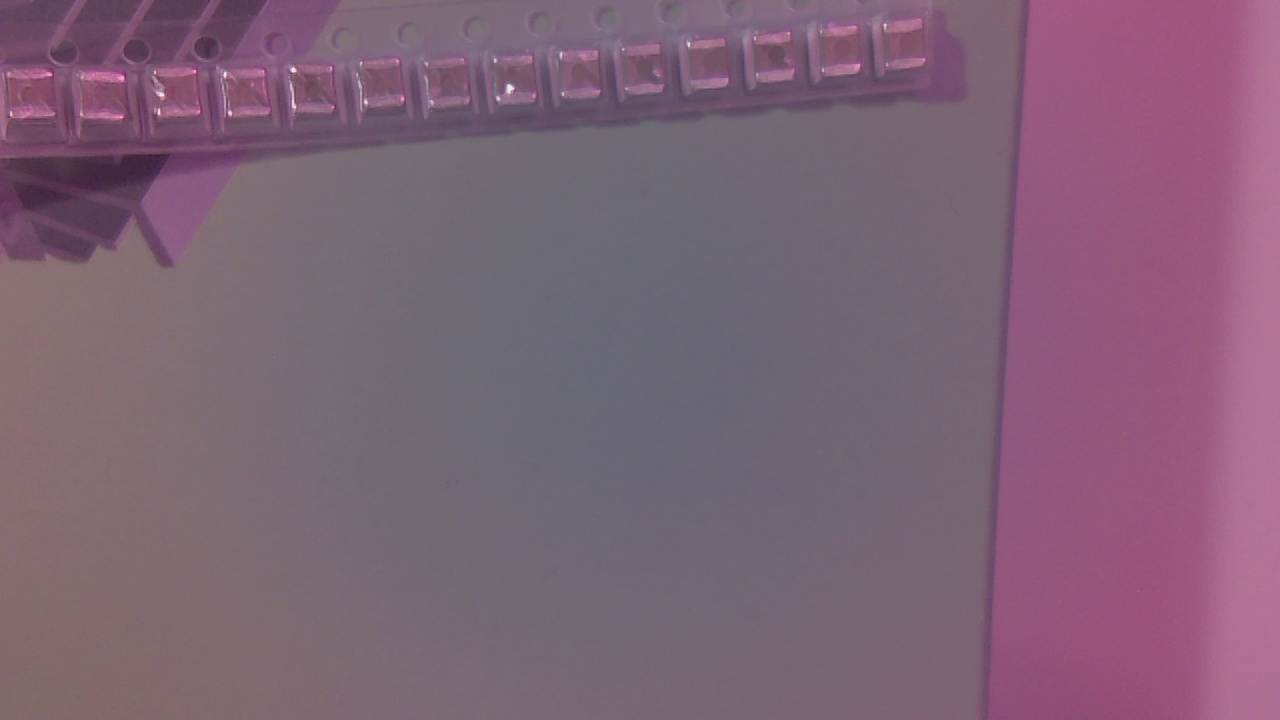Condensator: (9, 70, 64, 127), (81, 71, 135, 129), (154, 75, 210, 127), (225, 72, 280, 124), (428, 64, 481, 117), (561, 53, 612, 108), (759, 34, 807, 90), (627, 46, 675, 102), (295, 68, 343, 123), (361, 62, 413, 112), (887, 20, 932, 76), (500, 58, 543, 114), (691, 43, 737, 94), (823, 27, 866, 81)
